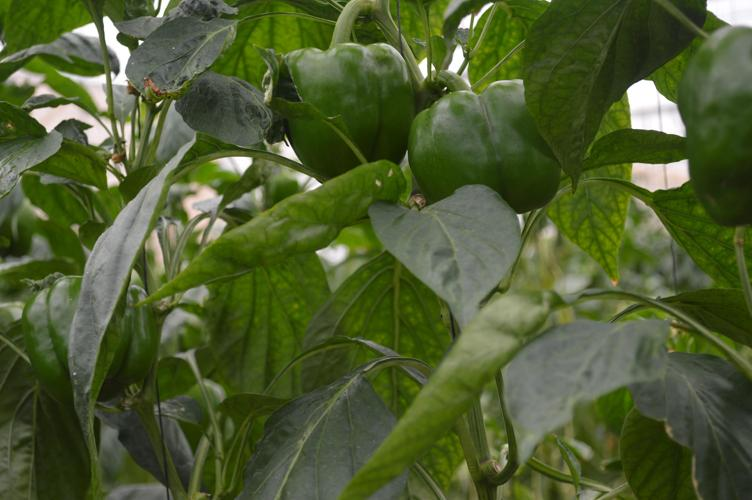BellPepper: (409, 75, 555, 207), (281, 43, 410, 171), (19, 280, 154, 400)
